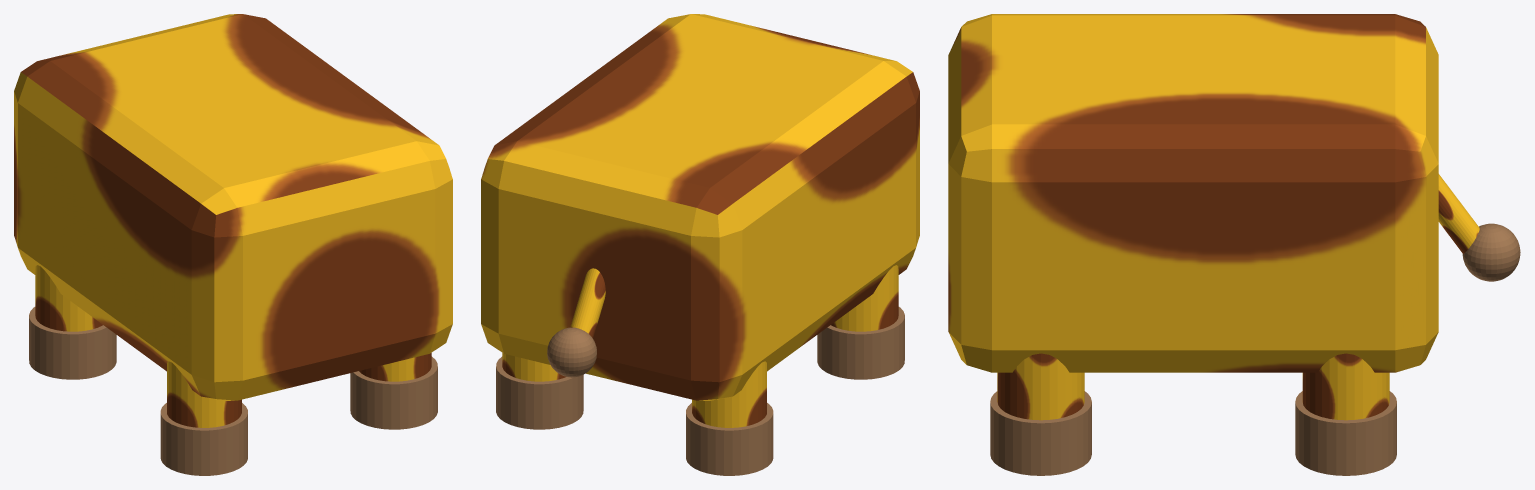
The model's file is giraffe_body.glb.
3 renders of one model, left to right at view 1: azimuth 30°, elevation 25°; view 2: azimuth 150°, elevation 25°; view 3: azimuth 270°, elevation 25°, orthographic. The views are drawn at different scales.
Parts seen in each view (by area): view 1: BodyMesh, Cylinder.001, Cylinder.003, Cylinder.005, Cylinder, Cylinder.004, Cylinder.002; view 2: BodyMesh, Cylinder.005, Cylinder.007, Cylinder.001, Cylinder.004, Cylinder, Sphere, Cylinder.008, Cylinder.006; view 3: BodyMesh, Cylinder.003, Cylinder.007, Cylinder.002, Cylinder.006, Sphere, Cylinder.008.
Part boxes in pixels (box(x1,y1,x2,y2)): BodyMesh: box(14, 14, 452, 400); Cylinder.001: box(160, 403, 247, 475); Cylinder.003: box(350, 356, 437, 429); Cylinder.005: box(29, 307, 116, 379); Cylinder: box(167, 361, 241, 427); Cylinder.004: box(35, 265, 102, 331); Cylinder.002: box(359, 353, 431, 381); BodyMesh: box(481, 14, 919, 400); Cylinder.005: box(686, 403, 773, 475); Cylinder.007: box(496, 356, 583, 429); Cylinder.001: box(817, 307, 904, 379); Cylinder.004: box(692, 361, 766, 427); Cylinder: box(831, 265, 898, 331); Sphere: box(547, 327, 596, 377); Cylinder.008: box(570, 268, 605, 338); Cylinder.006: box(502, 353, 566, 381); BodyMesh: box(948, 14, 1438, 372); Cylinder.003: box(990, 391, 1091, 475); Cylinder.007: box(1295, 391, 1396, 475); Cylinder.002: box(997, 353, 1084, 420); Cylinder.006: box(1302, 353, 1389, 420); Sphere: box(1462, 223, 1520, 281); Cylinder.008: box(1438, 174, 1479, 253).
Size of the model in its own units: 0.98 by 1 by 1.58.
2 materials, 1 textured.
